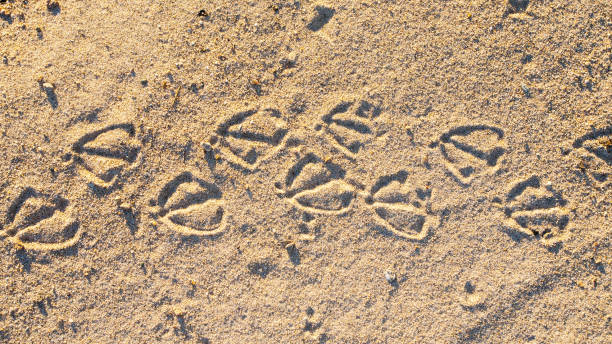animal_footprint: (275, 151, 355, 214), (366, 171, 439, 240), (1, 187, 80, 250), (72, 123, 141, 190), (153, 172, 226, 235), (503, 176, 569, 245), (430, 125, 505, 185), (215, 108, 287, 170), (315, 95, 381, 158), (572, 125, 611, 186)
